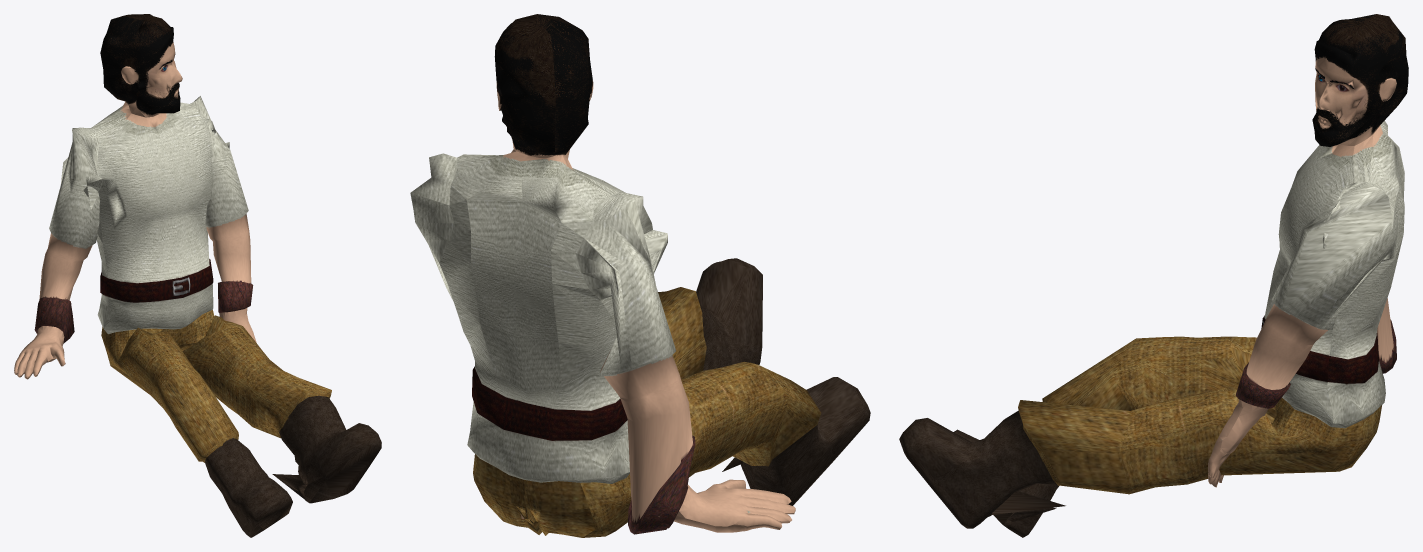
File: lumberJack2.obj
3 views of the same model, side by side, from view 1: azimuth 30°, elevation 25°; view 2: azimuth 150°, elevation 25°; view 3: azimuth 270°, elevation 25° (orthographic). The views are drawn at different scales.
Visible parts, largest first — view 1: lumberJack; view 2: lumberJack; view 3: lumberJack.
Boxes of the visible parts, <box> form: lumberJack: <box>14,14,381,537</box>; lumberJack: <box>410,14,870,537</box>; lumberJack: <box>899,14,1408,537</box>.
Size of the model in its own units: 1.87 by 3.31 by 2.9.
Materials: 1 (1 with a texture image).
